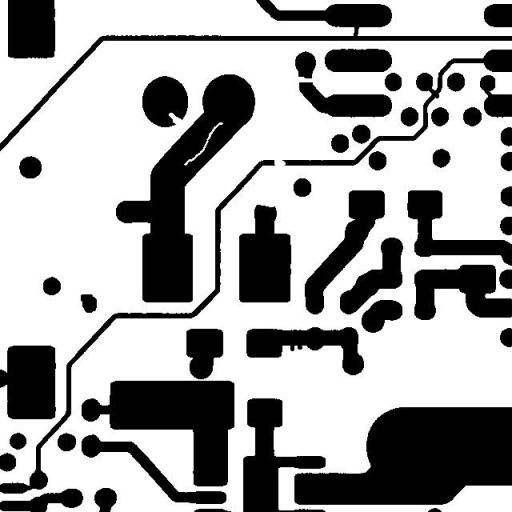copper: (73, 286, 104, 320)
mousebite: (161, 105, 189, 132), (248, 192, 282, 214)
open: (286, 68, 323, 90), (266, 149, 293, 178)
pin-hole: (176, 114, 230, 173)
short: (418, 78, 446, 106), (475, 78, 501, 108), (346, 16, 367, 46)
spur: (279, 334, 310, 358)
